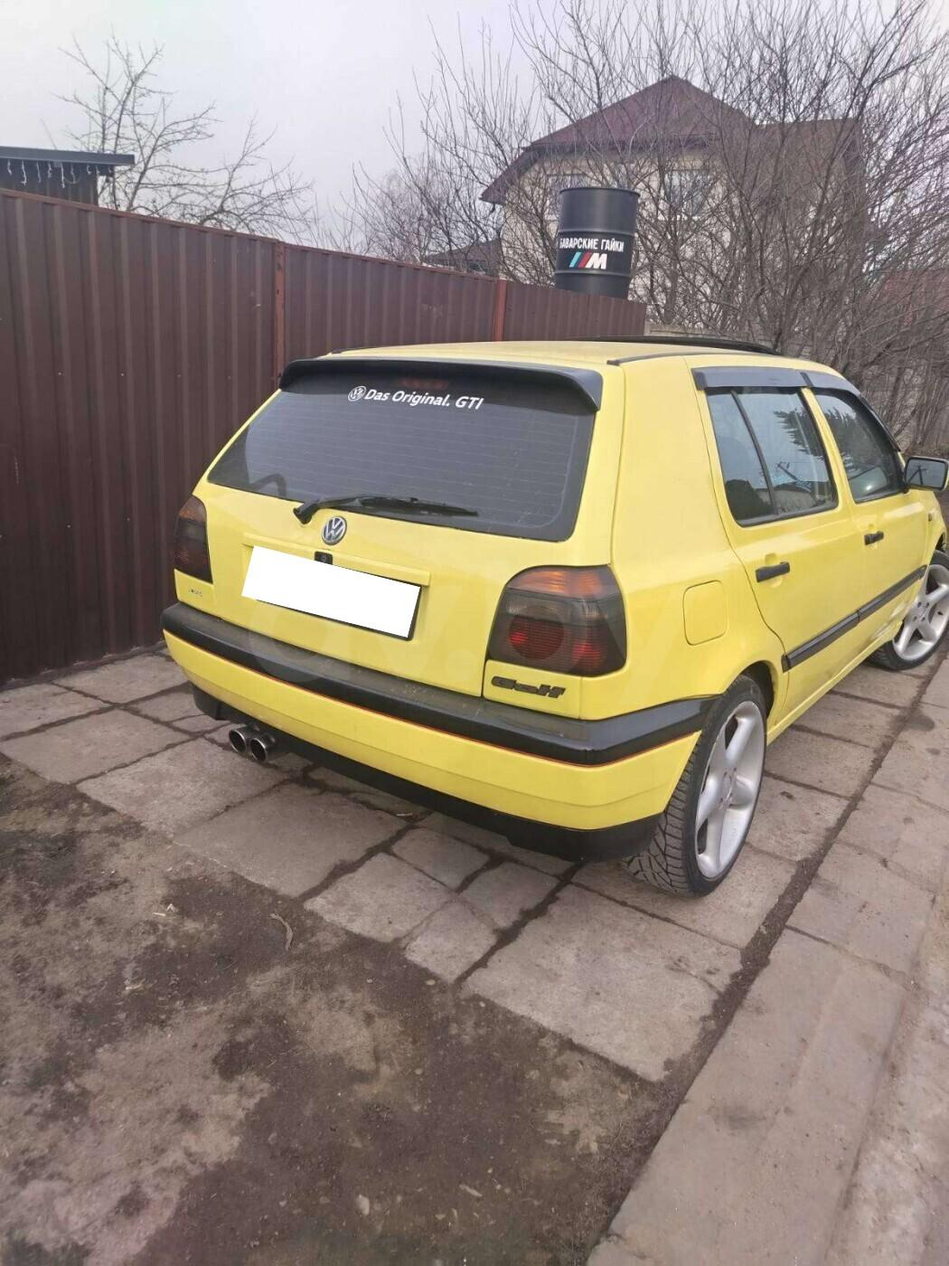Golf_1991-2000: (158, 337, 949, 899)
